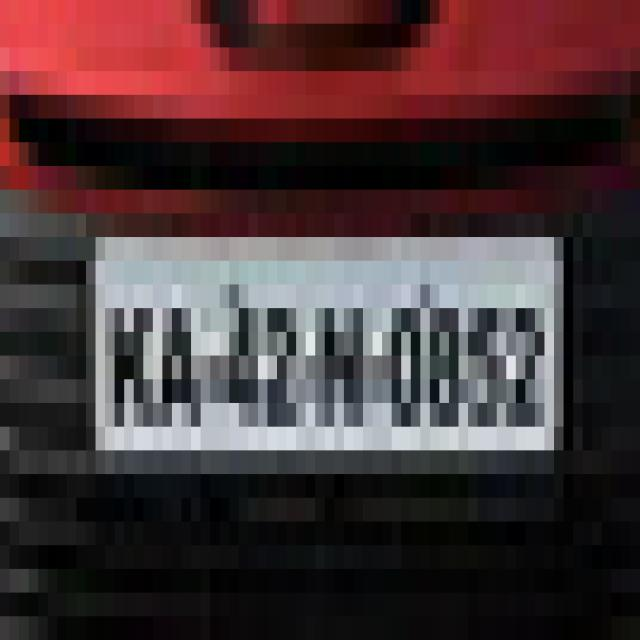0: (383, 294, 426, 442)
4: (226, 290, 262, 444)
5: (464, 297, 504, 440)
8: (429, 297, 466, 444)
A: (158, 290, 205, 432)
K: (111, 294, 158, 440)
N: (319, 292, 371, 446)
